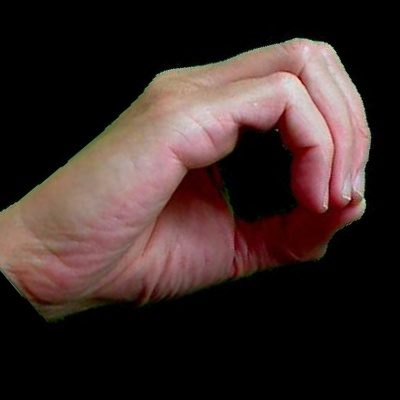o: (3, 2, 400, 370)
